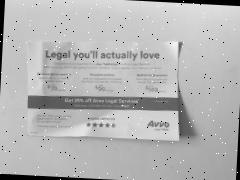paper: (3, 21, 203, 168)
